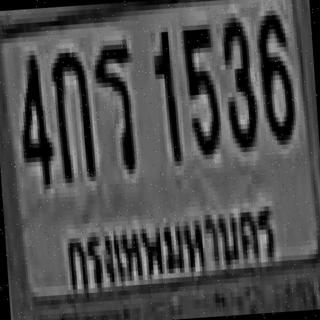A01: (50, 47, 94, 179)
A35: (91, 39, 135, 171)
N01: (150, 24, 178, 160)
N03: (219, 12, 257, 148)
N04: (14, 50, 52, 186)
N05: (180, 19, 220, 156)
N06: (254, 5, 295, 141)
P04: (54, 192, 289, 298)
